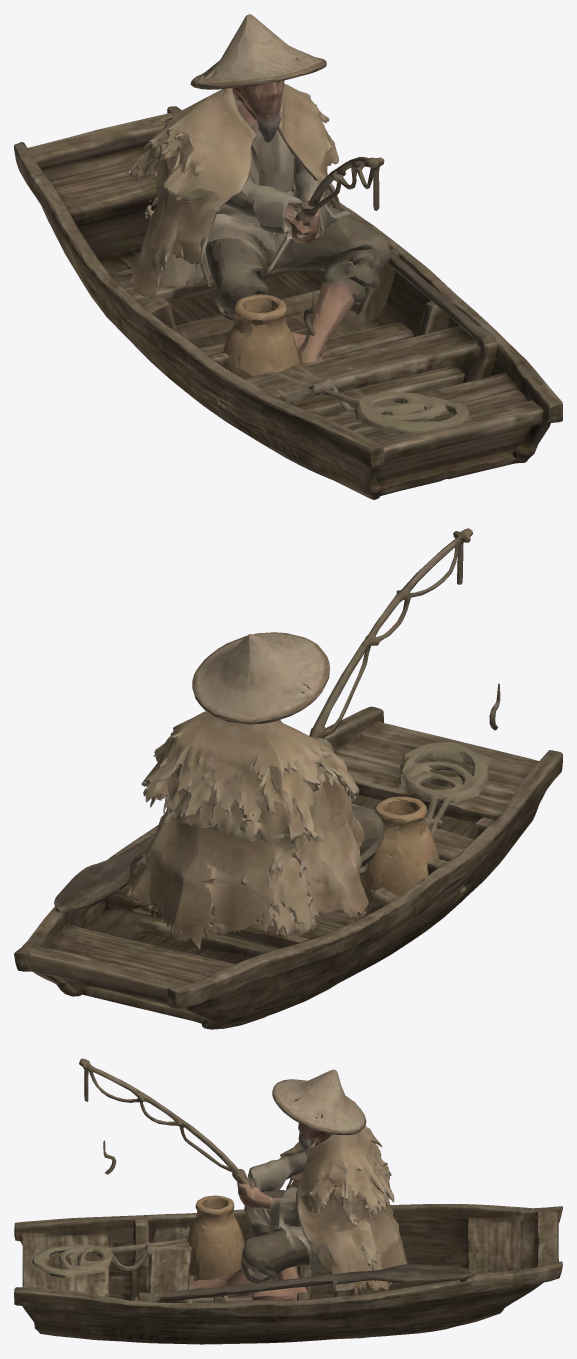
File: snow_fisher_diorama.glb
3 views of the same model, one above another, from view 1: azimuth 30°, elevation 25°; view 2: azimuth 150°, elevation 25°; view 3: azimuth 270°, elevation 25° (orthographic). The views are drawn at different scales.
Parts seen in each view (by area): view 1: geometry_0; view 2: geometry_0; view 3: geometry_0.
Part boxes in pixels (x1,y1,x2,y2): geometry_0: (14, 14, 562, 499); geometry_0: (14, 528, 562, 1029); geometry_0: (14, 1058, 562, 1344).
Bounding box in the file's own units: 0.4497 × 0.5319 × 1.09.
Materials: 1 (1 with a texture image).
